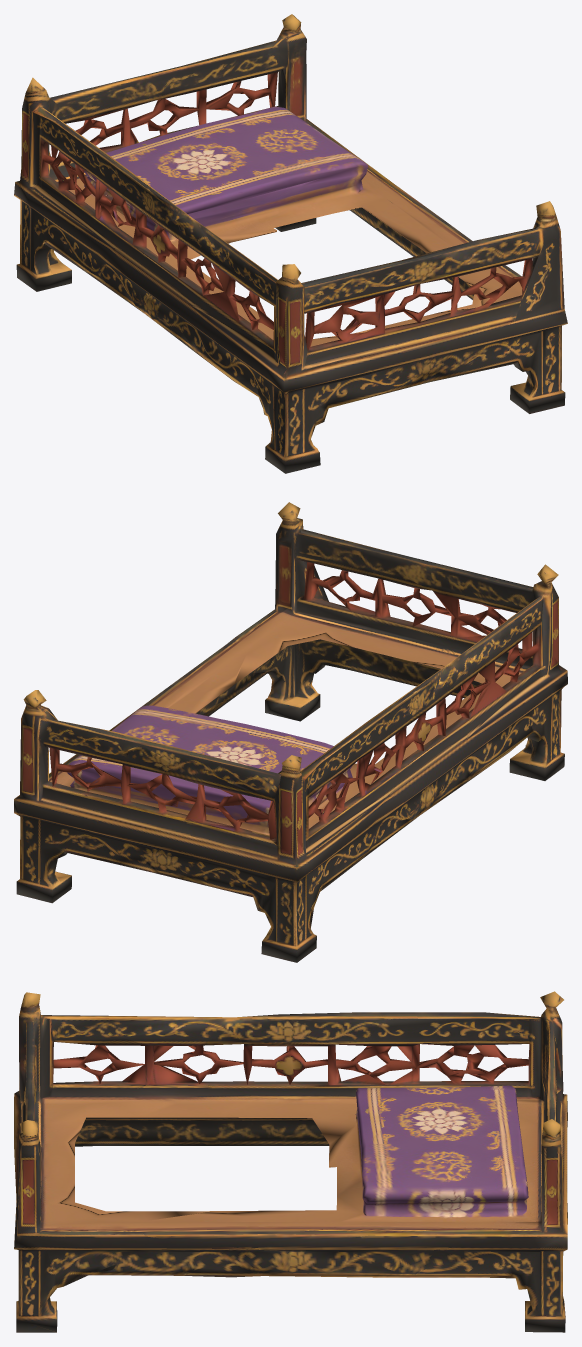
Rendered from bed.glb.
3 views of the same model, one above another, from view 1: azimuth 30°, elevation 25°; view 2: azimuth 150°, elevation 25°; view 3: azimuth 270°, elevation 25° (orthographic). The views are drawn at different scales.
Visible parts, largest first — view 1: tripo_node_3ddf3e6e-0714-44c3-8c27-6b6843d508cf; view 2: tripo_node_3ddf3e6e-0714-44c3-8c27-6b6843d508cf; view 3: tripo_node_3ddf3e6e-0714-44c3-8c27-6b6843d508cf.
Boxes of the visible parts, bbox=[...] form: tripo_node_3ddf3e6e-0714-44c3-8c27-6b6843d508cf: bbox=[14, 14, 567, 473]; tripo_node_3ddf3e6e-0714-44c3-8c27-6b6843d508cf: bbox=[14, 502, 567, 962]; tripo_node_3ddf3e6e-0714-44c3-8c27-6b6843d508cf: bbox=[14, 991, 567, 1332].
Size of the model in its own units: 0.6078 by 0.4142 by 1.
1 material, 1 textured.
